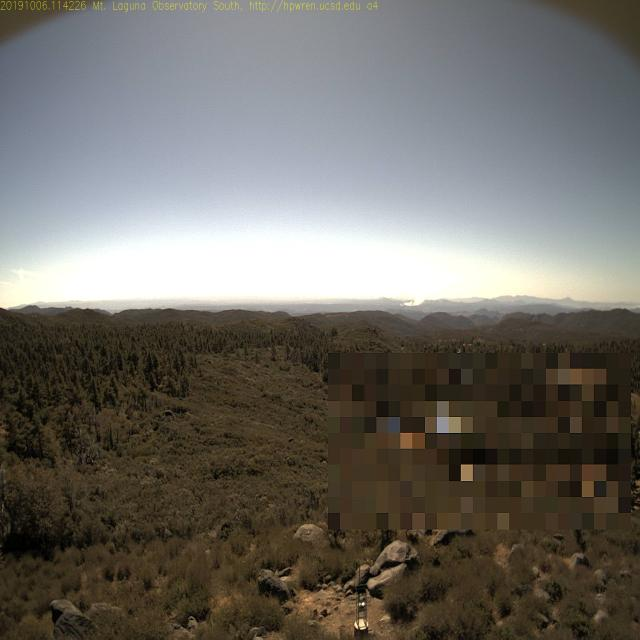smoke: (396, 293, 428, 309)
